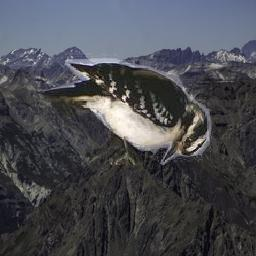Woodpecker: (38, 53, 218, 165)
